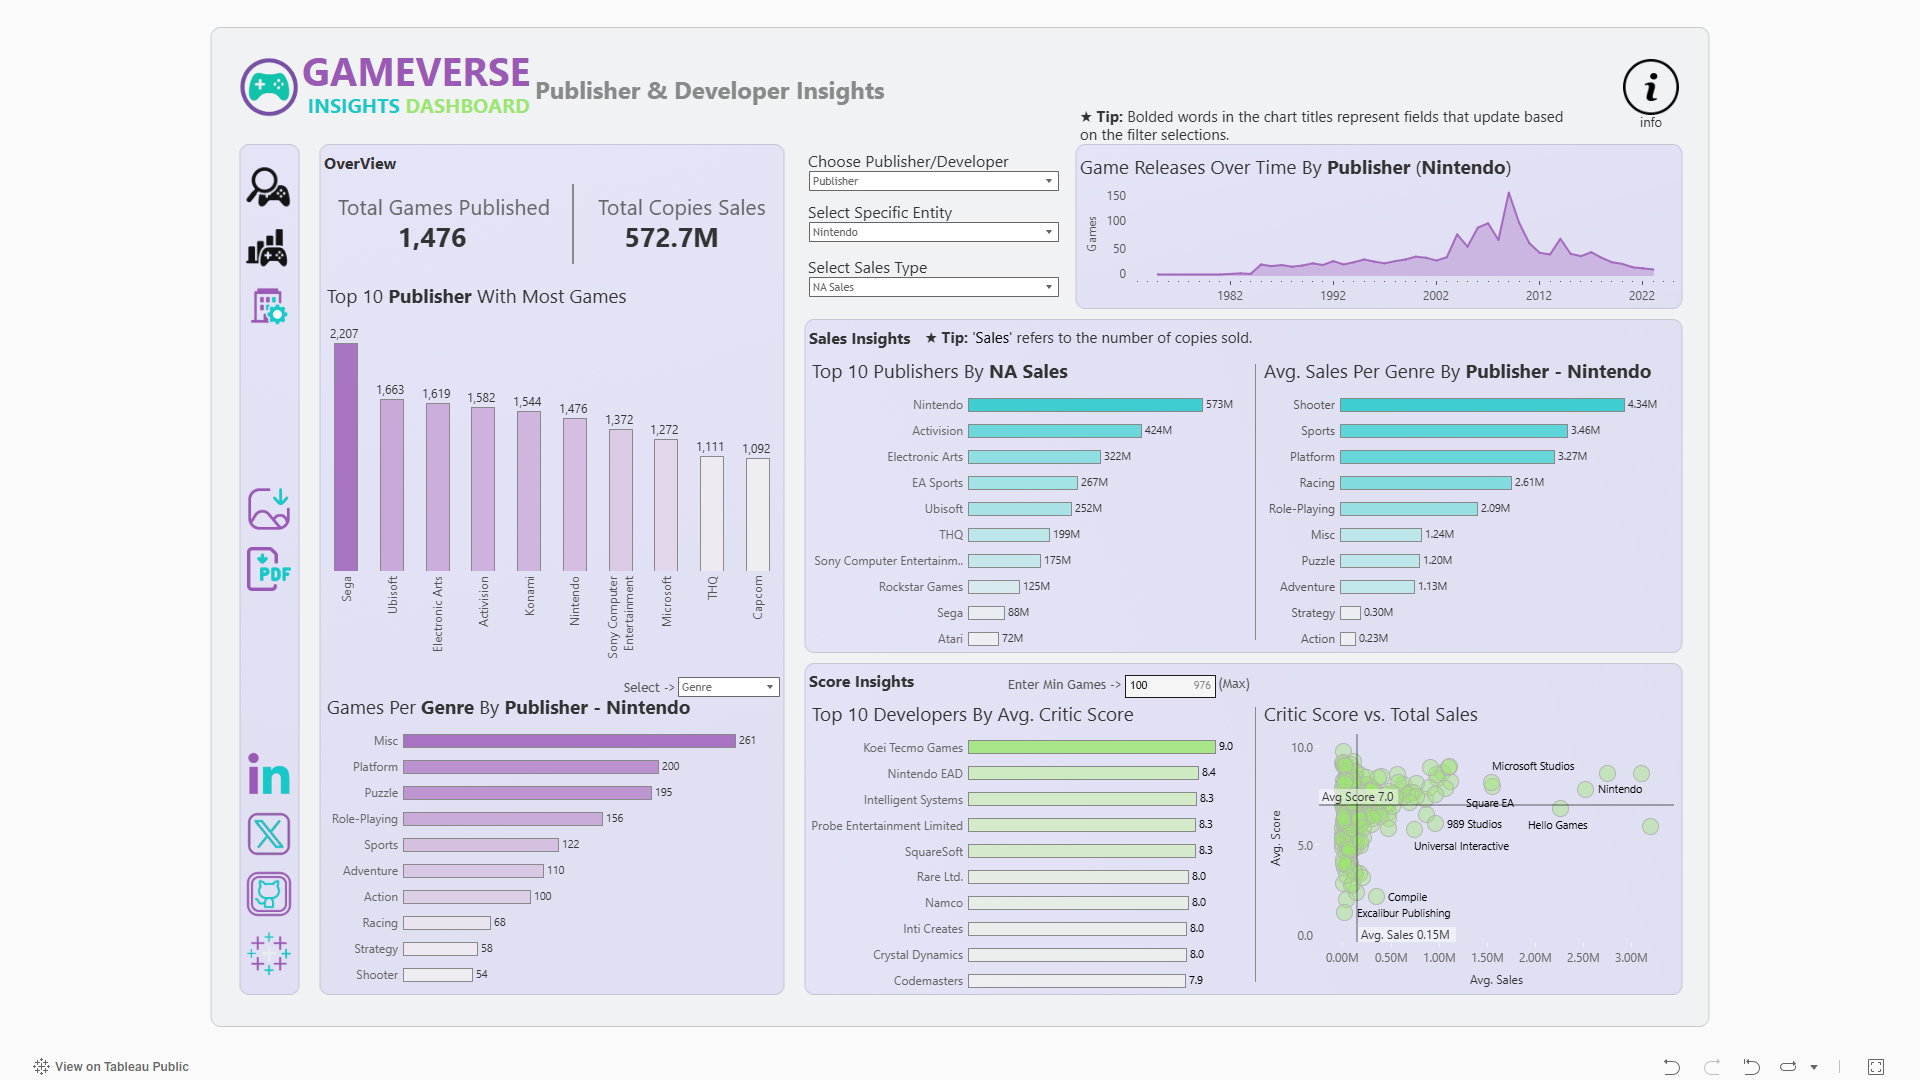

This screenshot's page, from the dashboard's own definition file:
{"tool":"tableau","page":{"name":"Dashboard 3","canvas":[1400,800],"ordinal":2},"visuals":[{"type":"image","param":"Image/Frame 3.png","box":[0,0,1400,800]},{"type":"blank","box":[26,3,698,98]},{"type":"image","param":"Image/Logo.png","box":[8,8,260,90]},{"type":"blank","box":[268,8,1124,90]},{"type":"dashboard-object","box":[1310,17,54,54]},{"type":"text","box":[275,33,566,43]},{"type":"blank","box":[91,104,1298,186]},{"type":"blank","box":[28,108,60,10]},{"type":"text","box":[108,108,465,25]},{"type":"parameter","param":"[Parameters].[Parameter 3]","box":[593,108,260,53]},{"type":"worksheet","title":"Pub/Dev Over Time","mark":"Line","rows":["title","title"],"cols":["release_date"],"box":[863,108,509,155]},{"type":"blank","box":[106,111,466,155]},{"type":"dashboard-object","box":[28,118,60,60]},{"type":"worksheet","title":"BAN - TotalGames","mark":"Automatic","box":[108,133,253,100]},{"type":"blank","box":[361,133,2,100]},{"type":"worksheet","title":"BANs - Sales/Score","mark":"Automatic","box":[363,133,210,100]},{"type":"filter","title":"Games per Con/Gen by Pub/Dev","param":"[federated.18w1nm404yaaw618ulkqm1dnj3dy].[none:Select Specific (copy)_1203305593","box":[593,161,260,49]},{"type":"dashboard-object","box":[28,178,60,60]},{"type":"parameter","param":"[Parameters].[Parameter 2]","box":[593,210,260,53]},{"type":"worksheet","title":"Top 10 Pub/Dev","mark":"Automatic","rows":["Video Games Data.csv_87575D1885CE4F9F9E11FA6B9C9073A3"],"cols":["Calculation_1203305593479016448"],"box":[108,233,465,248]},{"type":"dashboard-object","box":[28,238,60,60]},{"type":"text","box":[593,273,779,25]},{"type":"text","box":[91,290,1298,298]},{"type":"blank","box":[28,298,60,123]},{"type":"worksheet","title":"Top 10 Pub (sales)","mark":"Automatic","rows":["publisher"],"cols":["Calculation_1052435005628178432"],"box":[593,298,385,202]},{"type":"blank","box":[978,298,1,202]},{"type":"worksheet","title":"Avg Sales Per Genre By Pub","mark":"Automatic","rows":["genre"],"cols":["Calculation_1052435005628178432"],"box":[979,298,393,202]},{"type":"dashboard-object","box":[28,421,60,55]},{"type":"dashboard-object","box":[28,476,60,55]},{"type":"worksheet","title":"Games per Con/Gen by Pub/Dev","mark":"Automatic","rows":["Calculation_1272829846112575488"],"cols":["Video Games Data.csv_87575D1885CE4F9F9E11FA6B9C9073A3"],"box":[108,481,465,291]},{"type":"text","box":[413,488,126,30]},{"type":"parameter","param":"[Parameters].[Parameter 1]","box":[467,492,97,48]},{"type":"text","box":[593,510,779,25]},{"type":"text","box":[749,510,126,30]},{"type":"filter","title":"Top 10 Dev (Score)","param":"[federated.18w1nm404yaaw618ulkqm1dnj3dy].[sum:Calculation_680606561990561792:qk]","box":[870,516,85,33]},{"type":"blank","box":[28,531,60,50]},{"type":"worksheet","title":"Top 10 Dev (Score)","mark":"Bar","rows":["developer"],"cols":["Calculation_680606561990733825"],"box":[593,535,385,237]},{"type":"blank","box":[978,535,1,237]},{"type":"worksheet","title":"Score vs Sales","mark":"Shape","rows":["critic_score"],"cols":["total_sales"],"box":[979,535,393,237]},{"type":"image","param":"Image/contact-linkedin.png","box":[28,581,60,60]},{"type":"blank","box":[91,588,1298,186]},{"type":"image","param":"Image/contact-github.png","box":[28,641,60,61]},{"type":"image","param":"Image/contact-public.png","box":[28,702,60,60]},{"type":"blank","box":[28,762,60,10]}]}

Visuals, with their boxes on the page's 1400x800 design canvas (x1, y1, x2, y2). These are canvas units, not pixel positions in the 1920x1080 screenshot, which may show the page scaled, cropped or inside an application window:
image: region(0, 0, 1400, 800)
blank: region(26, 3, 724, 101)
image: region(8, 8, 268, 98)
blank: region(268, 8, 1392, 98)
dashboard-object: region(1310, 17, 1364, 71)
text: region(275, 33, 841, 76)
blank: region(91, 104, 1389, 290)
blank: region(28, 108, 88, 118)
text: region(108, 108, 573, 133)
parameter: region(593, 108, 853, 161)
"Pub/Dev Over Time" worksheet (Line marks): region(863, 108, 1372, 263)
blank: region(106, 111, 572, 266)
dashboard-object: region(28, 118, 88, 178)
"BAN - TotalGames" worksheet: region(108, 133, 361, 233)
blank: region(361, 133, 363, 233)
"BANs - Sales/Score" worksheet: region(363, 133, 573, 233)
"Games per Con/Gen by Pub/Dev" filter: region(593, 161, 853, 210)
dashboard-object: region(28, 178, 88, 238)
parameter: region(593, 210, 853, 263)
"Top 10 Pub/Dev" worksheet: region(108, 233, 573, 481)
dashboard-object: region(28, 238, 88, 298)
text: region(593, 273, 1372, 298)
text: region(91, 290, 1389, 588)
blank: region(28, 298, 88, 421)
"Top 10 Pub (sales)" worksheet: region(593, 298, 978, 500)
blank: region(978, 298, 979, 500)
"Avg Sales Per Genre By Pub" worksheet: region(979, 298, 1372, 500)
dashboard-object: region(28, 421, 88, 476)
dashboard-object: region(28, 476, 88, 531)
"Games per Con/Gen by Pub/Dev" worksheet: region(108, 481, 573, 772)
text: region(413, 488, 539, 518)
parameter: region(467, 492, 564, 540)
text: region(593, 510, 1372, 535)
text: region(749, 510, 875, 540)
"Top 10 Dev (Score)" filter: region(870, 516, 955, 549)
blank: region(28, 531, 88, 581)
"Top 10 Dev (Score)" worksheet (Bar marks): region(593, 535, 978, 772)
blank: region(978, 535, 979, 772)
"Score vs Sales" worksheet (Shape marks): region(979, 535, 1372, 772)
image: region(28, 581, 88, 641)
blank: region(91, 588, 1389, 774)
image: region(28, 641, 88, 702)
image: region(28, 702, 88, 762)
blank: region(28, 762, 88, 772)
